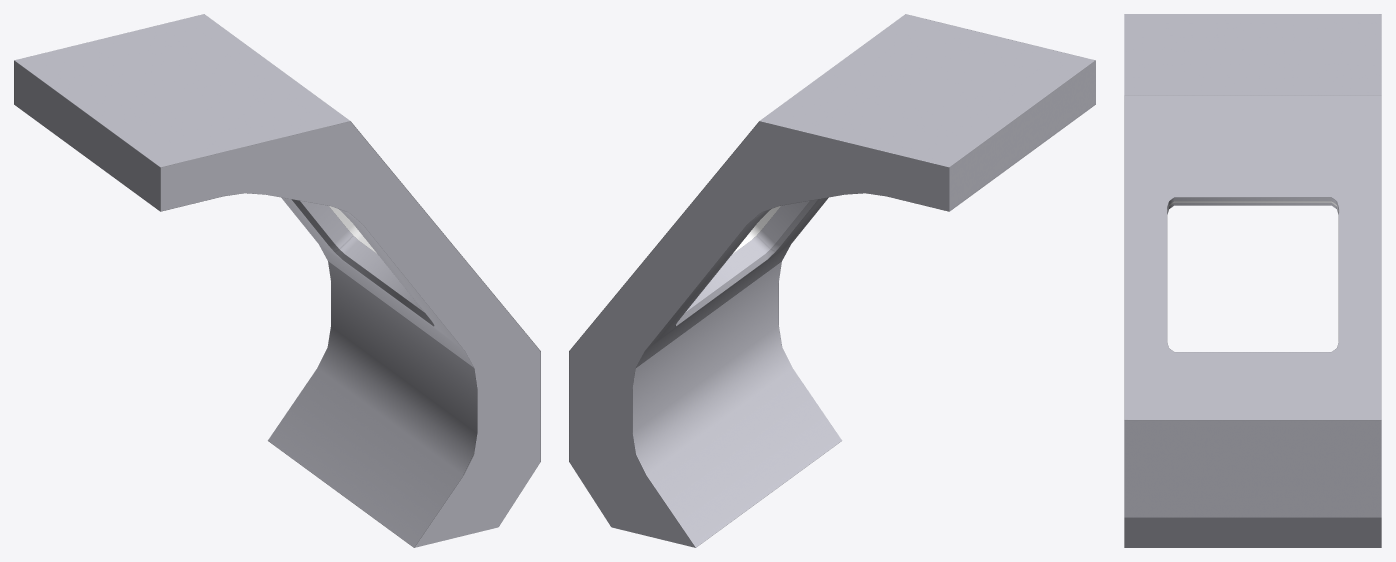
Rendered from Wall_Normal_02.FBX.
3 views of the same model, side by side, from view 1: azimuth 30°, elevation 25°; view 2: azimuth 150°, elevation 25°; view 3: azimuth 270°, elevation 25° (orthographic). The views are drawn at different scales.
Parts seen in each view (by area): view 1: Wall_Normal_02; view 2: Wall_Normal_02; view 3: Wall_Normal_02.
Part boxes in pixels (x1,y1,x2,y2): Wall_Normal_02: (14, 14, 540, 547); Wall_Normal_02: (569, 14, 1095, 547); Wall_Normal_02: (1124, 14, 1381, 547).
Size of the model in its own units: 9 by 10 by 6.
3 materials, 3 textured.
